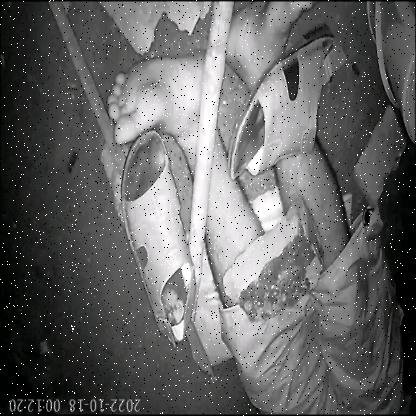leg: (99, 38, 249, 268)
